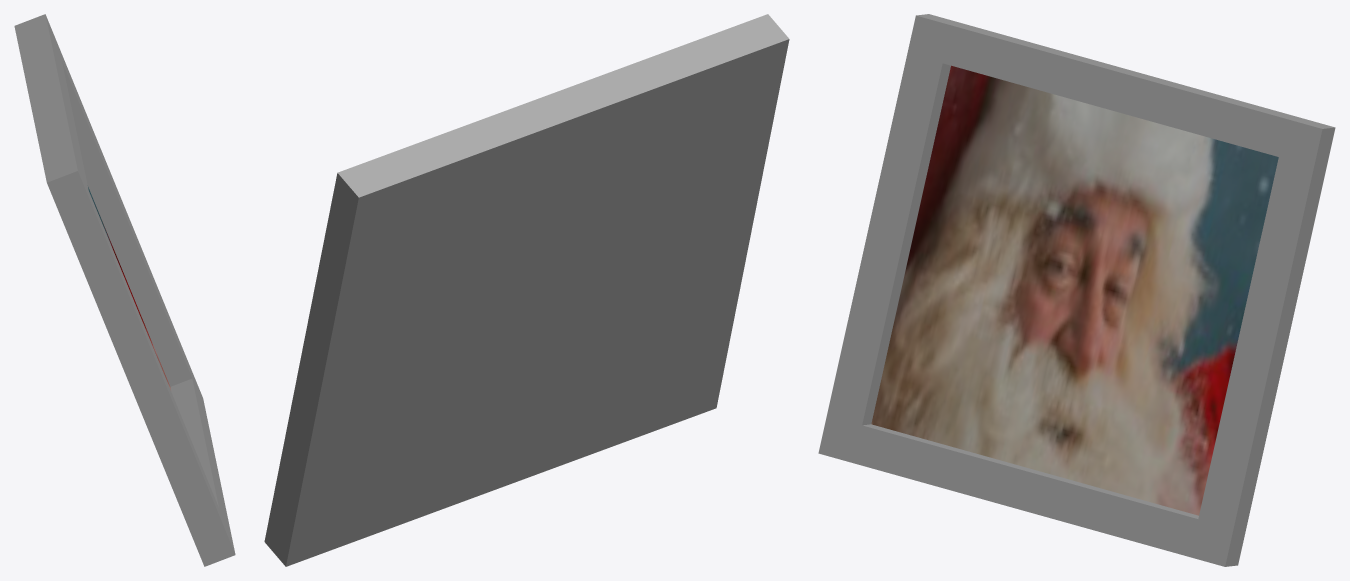
The model's file is PictureFrame 1.fbx.
3 views of the same model, side by side, from view 1: azimuth 30°, elevation 25°; view 2: azimuth 150°, elevation 25°; view 3: azimuth 270°, elevation 25° (orthographic). The views are drawn at different scales.
Parts seen in each view (by area): view 1: pCube1; view 2: pCube1; view 3: pCube1.
Part boxes in pixels (<box>): pCube1: <box>14,14,235,566</box>; pCube1: <box>264,14,789,566</box>; pCube1: <box>818,14,1335,566</box>.
Bounding box in the file's own units: 612 × 807 × 891.
